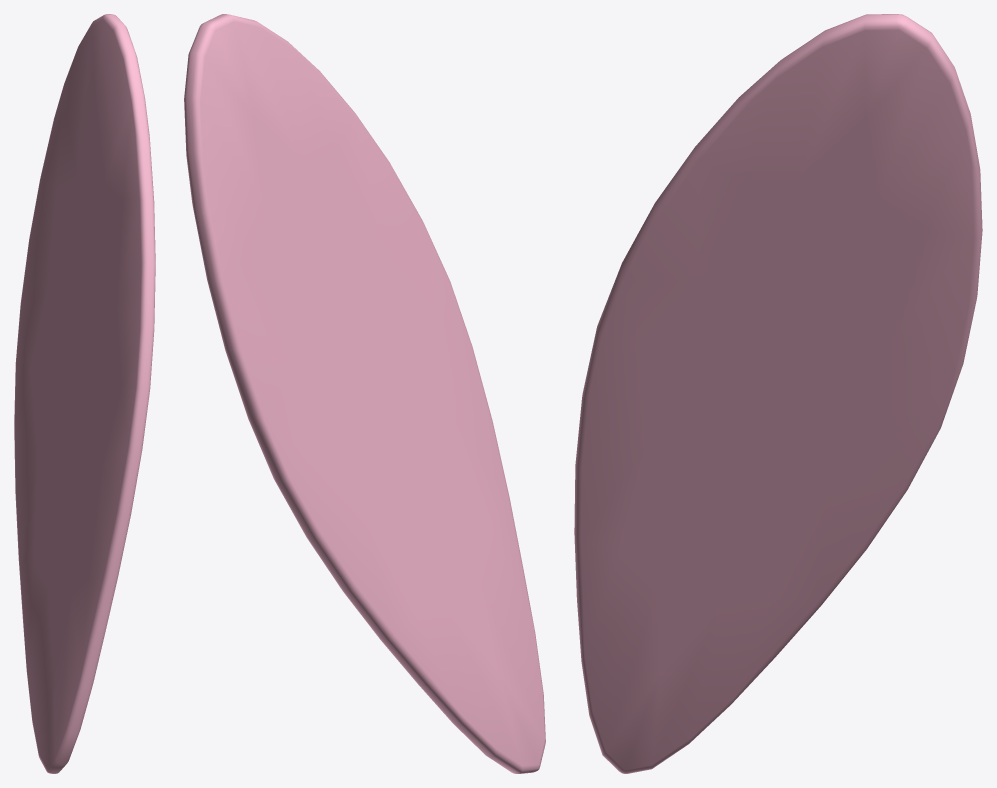
File: pinkFlower_23.glb
The picture shows the model from 3 angles, left to right: view 1: azimuth 30°, elevation 25°; view 2: azimuth 150°, elevation 25°; view 3: azimuth 270°, elevation 25°; orthographic projection. The views are drawn at different scales.
Visible parts, largest first — view 1: Petal_04_Elongated.070; view 2: Petal_04_Elongated.070; view 3: Petal_04_Elongated.070.
Part boxes in pixels (x1,y1,x2,y2): Petal_04_Elongated.070: (14, 14, 155, 773); Petal_04_Elongated.070: (184, 14, 545, 773); Petal_04_Elongated.070: (574, 14, 982, 773).
Bounding box in the file's own units: 0.4413 × 1.57 × 0.6768.
